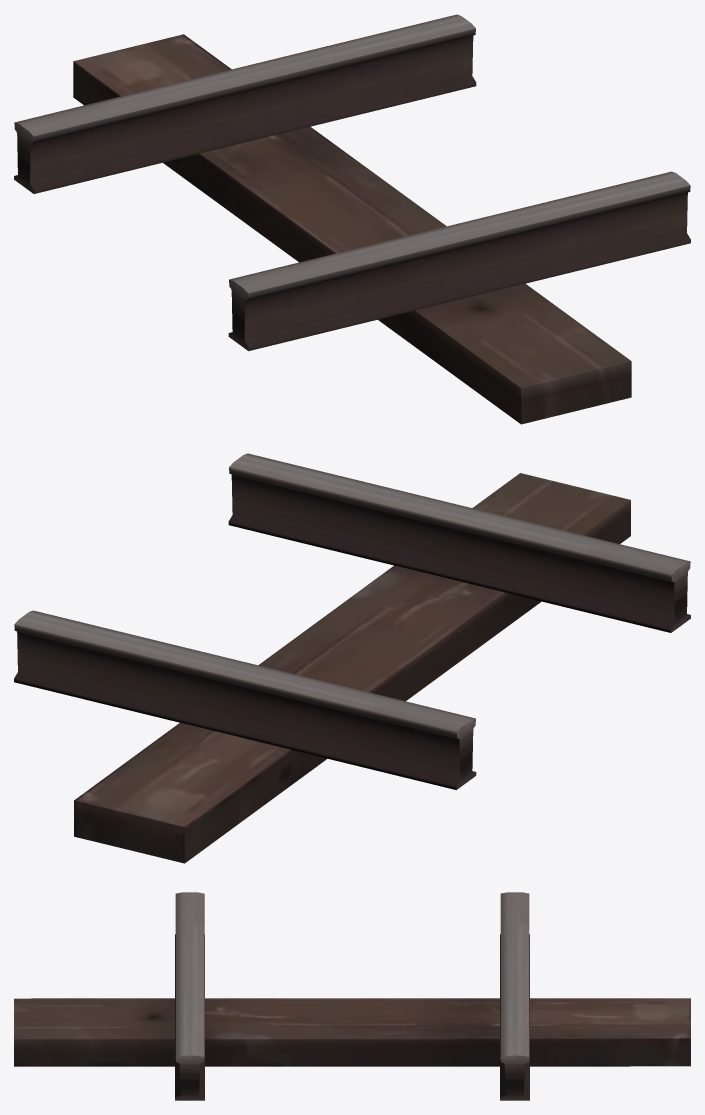
The picture shows the model from 3 angles, top to bottom: view 1: azimuth 30°, elevation 25°; view 2: azimuth 150°, elevation 25°; view 3: azimuth 270°, elevation 25°; orthographic projection. The views are drawn at different scales.
Visible parts, largest first — view 1: body0_model0_lod0_mesh0; view 2: body0_model0_lod0_mesh0; view 3: body0_model0_lod0_mesh0.
Boxes of the visible parts, x1,y1,x2,y2 form: body0_model0_lod0_mesh0: (14, 14, 690, 424); body0_model0_lod0_mesh0: (14, 453, 690, 863); body0_model0_lod0_mesh0: (14, 892, 690, 1100).
Size of the model in its own units: 32 by 6.58 by 56.01.
1 material, 1 textured.
